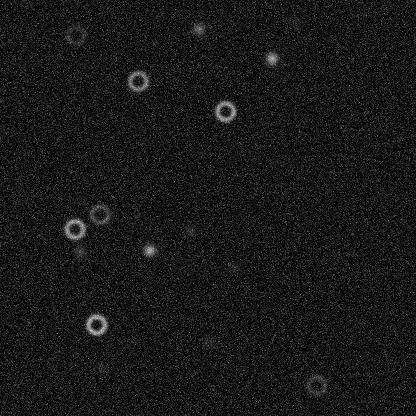Ring: (63, 23, 87, 47), (125, 69, 149, 93), (213, 99, 237, 123), (87, 202, 111, 226), (84, 312, 108, 336), (304, 373, 328, 397), (62, 216, 86, 240)
Spot: (263, 50, 279, 66), (200, 334, 216, 350), (225, 260, 241, 276), (95, 359, 111, 375), (72, 243, 88, 259), (286, 12, 302, 28), (182, 222, 198, 238), (141, 242, 157, 258), (190, 20, 206, 36)
